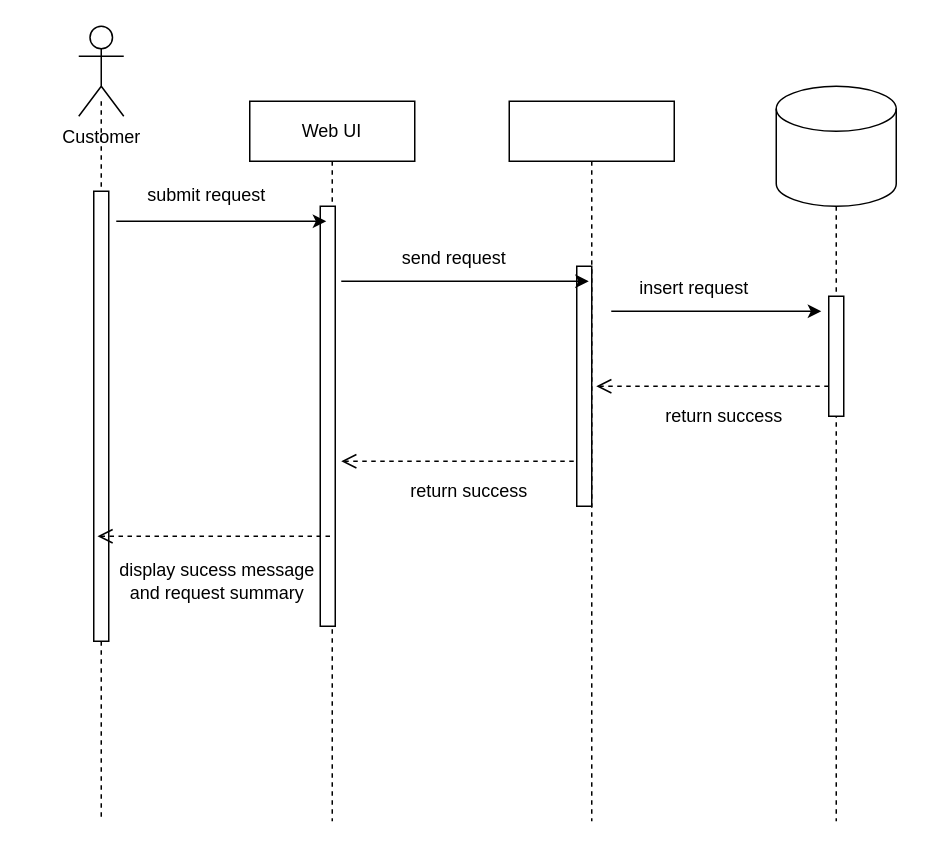
Image size: 938x848. Some labels were removed from this diagram. The centre of each missing label's shape, as x and y in pixels:
<<database>> MySQL: the point at 835,145
Consultation RequestController: the point at 591,460
